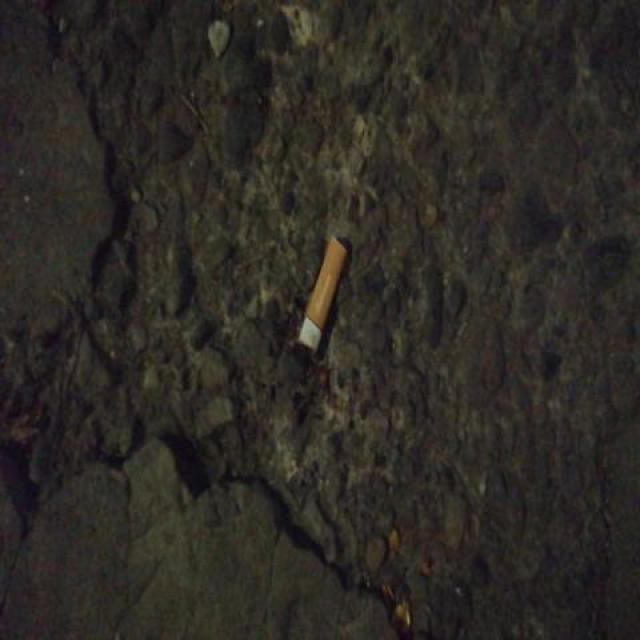non-organic waste: (296, 232, 348, 356)
